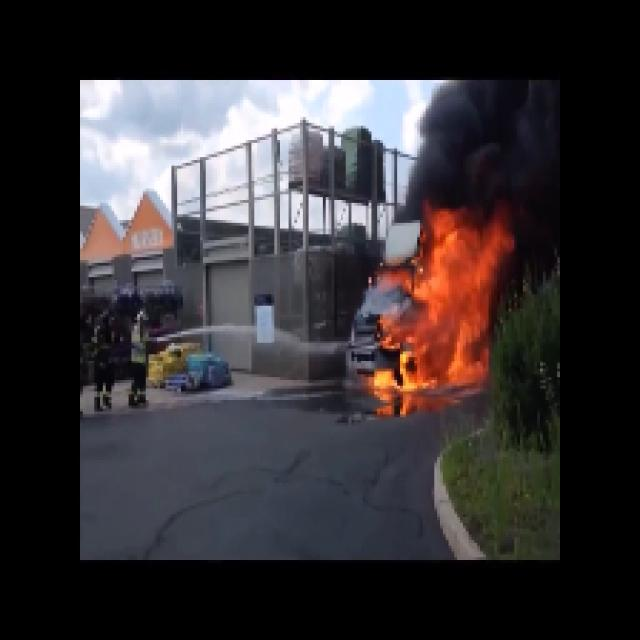fire: (384, 217, 490, 392), (418, 84, 553, 198)
